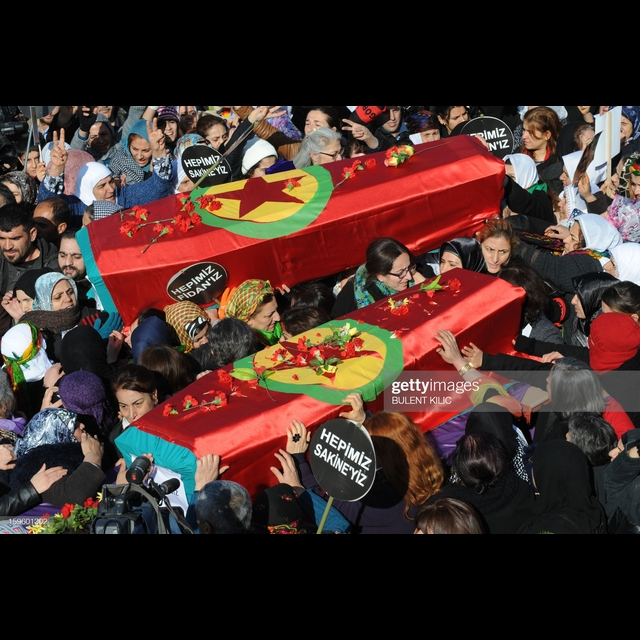ZI: (141, 116, 174, 163), (340, 116, 375, 147), (47, 127, 70, 173)
